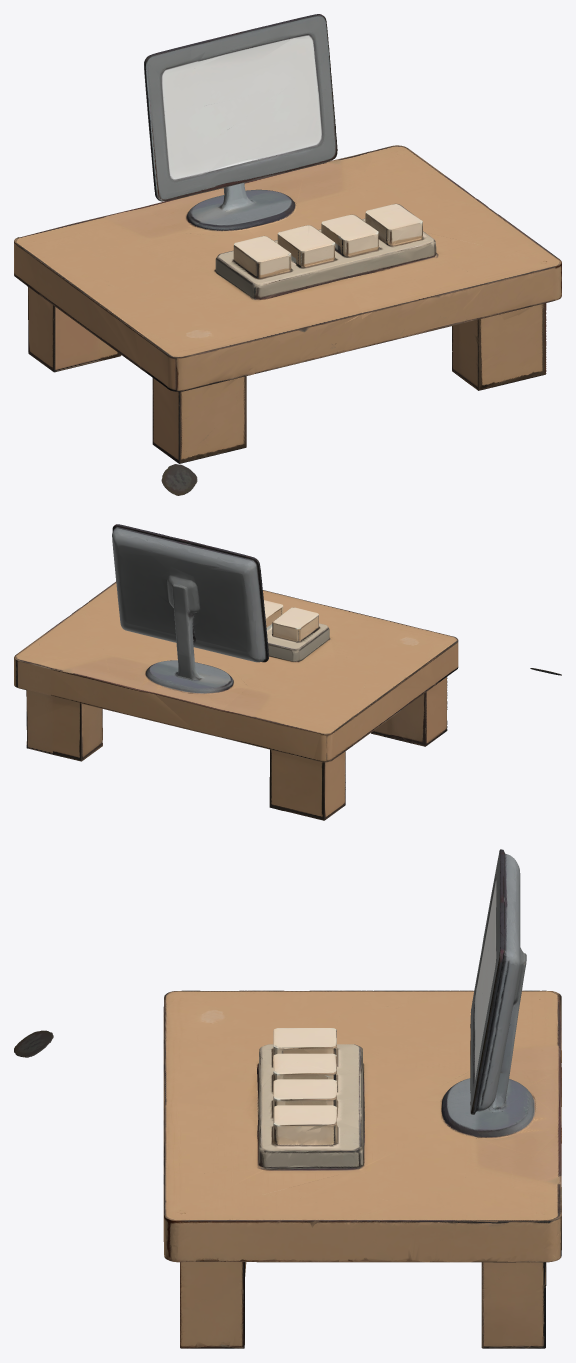
Rendered from low-monitor-no-decor-meshy6-web-v1.glb.
3 views of the same model, one above another, from view 1: azimuth 30°, elevation 25°; view 2: azimuth 150°, elevation 25°; view 3: azimuth 270°, elevation 25° (orthographic). The views are drawn at different scales.
Bounding box in the file's own units: 1.89 × 1.13 × 1.63.
1 material, 1 textured.
